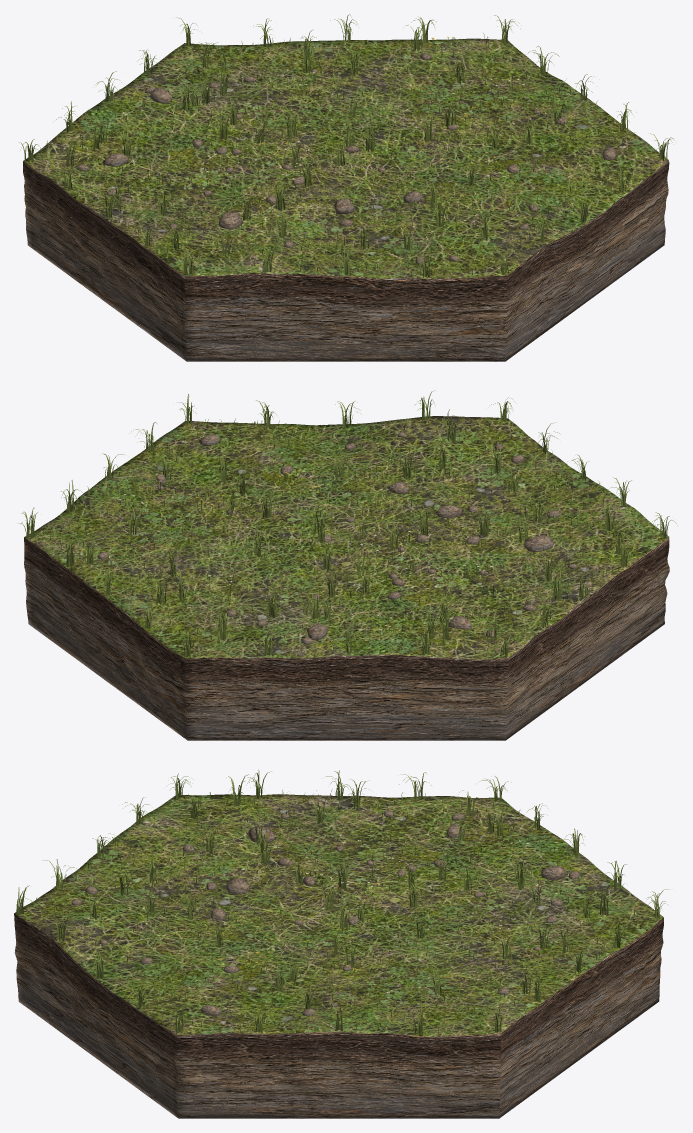
File: terrain-grassland-lod0.glb
The picture shows the model from 3 angles, top to bottom: view 1: azimuth 30°, elevation 25°; view 2: azimuth 150°, elevation 25°; view 3: azimuth 270°, elevation 25°; orthographic projection.
Parts seen in each view (by area): view 1: terrain_core, meadow_cover_6, meadow_cover_4, meadow_cover_3, meadow_cover_2, meadow_cover_1, meadow_cover_7, meadow_cover_5, meadow_cover_0; view 2: terrain_core, meadow_cover_2, meadow_cover_7, meadow_cover_5, meadow_cover_1, meadow_cover_0, meadow_cover_3, meadow_cover_4, meadow_cover_6; view 3: terrain_core, meadow_cover_1, meadow_cover_4, meadow_cover_2, meadow_cover_5, meadow_cover_6, meadow_cover_7, meadow_cover_0, meadow_cover_3.
Part boxes in pixels (bbox=[...]): terrain_core: bbox=[23, 38, 669, 361]; meadow_cover_6: bbox=[41, 35, 647, 272]; meadow_cover_4: bbox=[61, 33, 646, 275]; meadow_cover_3: bbox=[44, 38, 627, 275]; meadow_cover_2: bbox=[63, 42, 634, 270]; meadow_cover_1: bbox=[46, 38, 648, 276]; meadow_cover_7: bbox=[49, 36, 623, 273]; meadow_cover_5: bbox=[57, 39, 641, 273]; meadow_cover_0: bbox=[50, 36, 645, 269]; terrain_core: bbox=[24, 416, 669, 740]; meadow_cover_2: bbox=[68, 415, 640, 654]; meadow_cover_7: bbox=[58, 409, 645, 654]; meadow_cover_5: bbox=[42, 417, 660, 654]; meadow_cover_1: bbox=[78, 419, 623, 653]; meadow_cover_0: bbox=[43, 419, 632, 653]; meadow_cover_3: bbox=[61, 417, 644, 650]; meadow_cover_4: bbox=[37, 420, 632, 652]; meadow_cover_6: bbox=[53, 419, 655, 652]; terrain_core: bbox=[14, 794, 663, 1118]; meadow_cover_1: bbox=[31, 790, 648, 1031]; meadow_cover_4: bbox=[49, 790, 606, 1030]; meadow_cover_2: bbox=[51, 794, 632, 1032]; meadow_cover_5: bbox=[59, 790, 624, 1033]; meadow_cover_6: bbox=[41, 796, 629, 1030]; meadow_cover_7: bbox=[46, 792, 635, 1026]; meadow_cover_0: bbox=[49, 795, 626, 1034]; meadow_cover_3: bbox=[35, 789, 638, 1028].
Size of the model in its own units: 2.03 by 0.4395 by 2.29.
8 materials, 2 textured.
